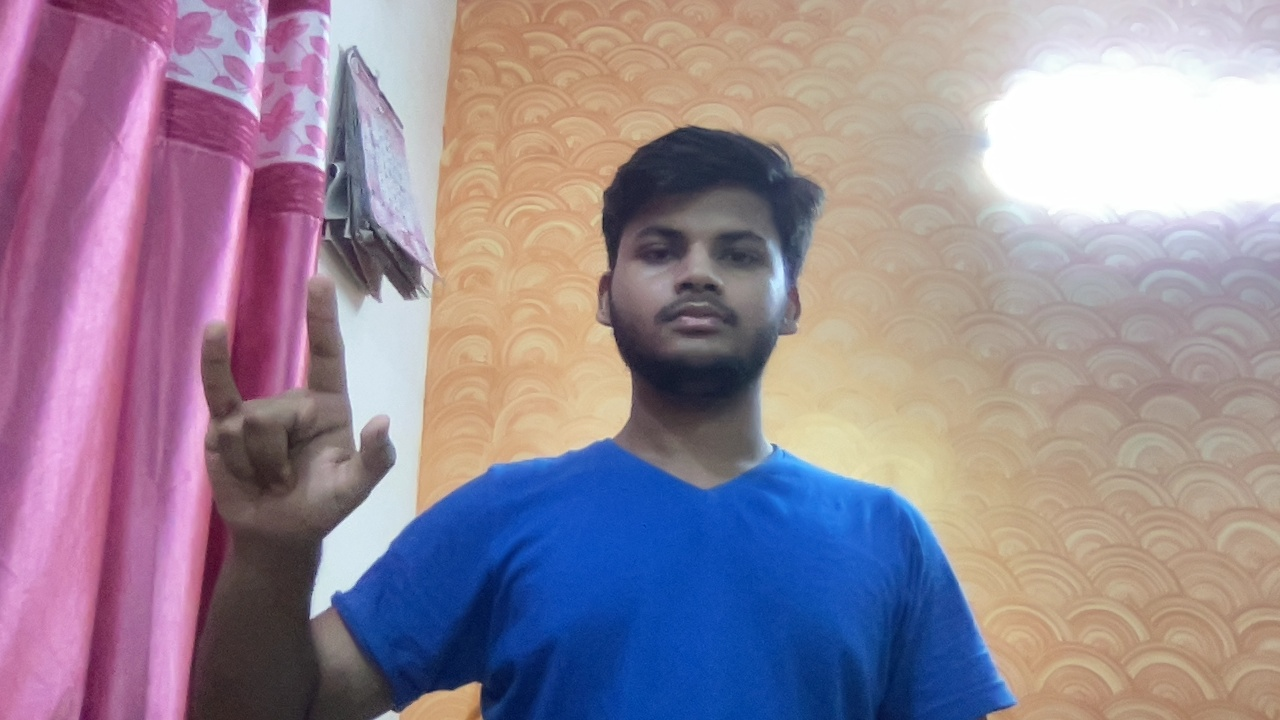iloveyou: (158, 267, 419, 575)
